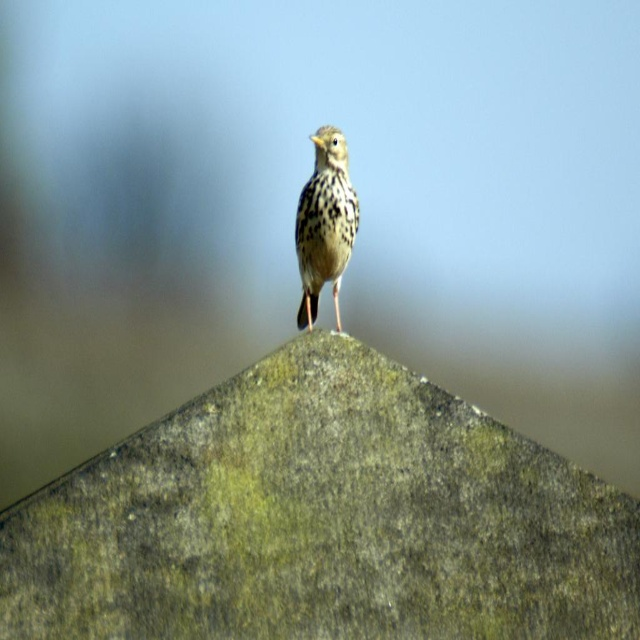Sparrow: (292, 126, 362, 340)
